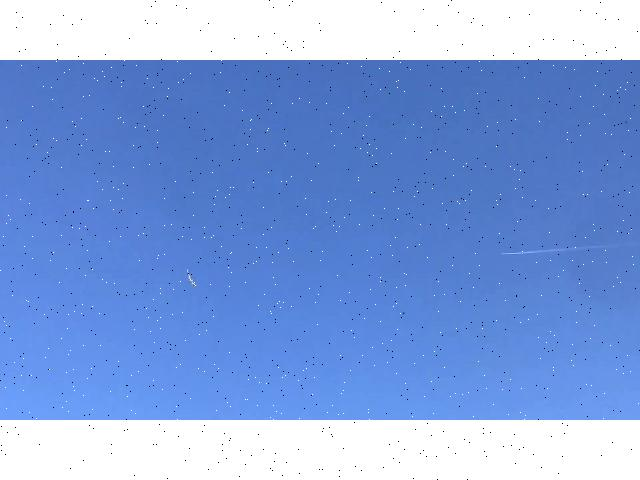Anti-Drone: (172, 268, 216, 295)
